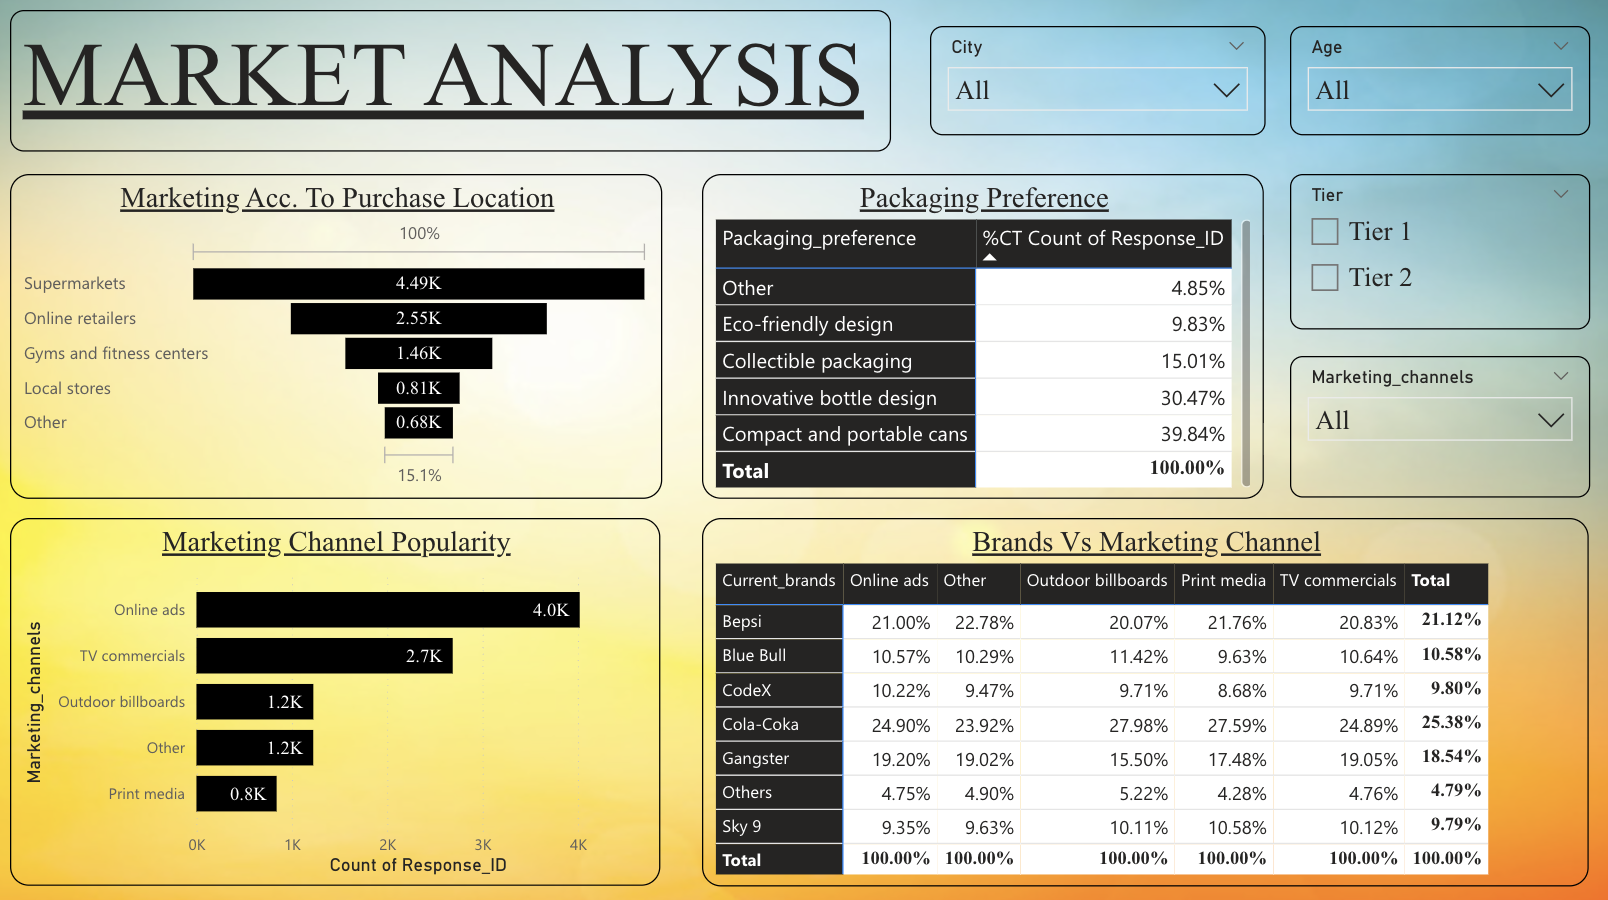

The dashboard page shown, as its layout file describes it:
{"tool":"powerbi","page":{"name":"marketing","canvas":[1280,720],"ordinal":4},"visuals":[{"type":"textbox","box":[11.3,11.3,697.7,111.6],"z":0},{"type":"slicer","fields":{"Values":["dim_cities.City"]},"box":[738.2,10.8,265.5,86.3],"z":1000},{"type":"slicer","fields":{"Values":["dim_repondents.Age"]},"box":[1023.1,10.8,237.4,86.3],"z":2000},{"type":"slicer","fields":{"Values":["dim_cities.Tier"]},"box":[1023.1,131.7,237.4,123],"z":3000},{"type":"slicer","fields":{"Values":["fact_survey_responses.Marketing_channels"]},"box":[1023.1,289.2,237.4,107.9],"z":4000},{"type":"clusteredBarChart","title":"Marketing Channel Popularity","fields":{"Category":["fact_survey_responses.Marketing_channels"],"Y":["CountNonNull(fact_survey_responses.Response_ID)"]},"box":[11.3,412.2,514.3,291.2],"z":5000},{"type":"funnel","title":"Marketing Acc. To Purchase Location","fields":{"Y":["CountNonNull(fact_survey_responses.Response_ID)"],"Category":["fact_survey_responses.Purchase_location"]},"box":[11.3,139.9,514.3,257.1],"z":6000},{"type":"pivotTable","title":"Packaging Preference","fields":{"Values":["CountNonNull(fact_survey_responses.Response_ID)"],"Rows":["fact_survey_responses.Packaging_preference"]},"box":[559.1,131.7,444.7,272],"z":7000},{"type":"pivotTable","title":"Brands Vs Marketing Channel","fields":{"Rows":["fact_survey_responses.Current_brands"],"Values":["CountNonNull(fact_survey_responses.Response_ID)"],"Columns":["fact_survey_responses.Marketing_channels"]},"box":[559.6,412.2,699.6,300.6],"z":8000}]}

Visuals, with their boxes in screenshot pixels (x1, y1, x2, y2), scaled from the page's 1280x720 canvas onto the 1608x900 screenshot:
textbox: (14,14,891,154)
slicer - dim_cities.City: (927,14,1261,121)
slicer - dim_repondents.Age: (1285,14,1584,121)
slicer - dim_cities.Tier: (1285,165,1584,318)
slicer - fact_survey_responses.Marketing_channels: (1285,362,1584,496)
"Marketing Channel Popularity" clusteredBarChart: (14,515,660,879)
"Marketing Acc. To Purchase Location" funnel: (14,175,660,496)
"Packaging Preference" pivotTable: (702,165,1261,505)
"Brands Vs Marketing Channel" pivotTable: (703,515,1582,891)
